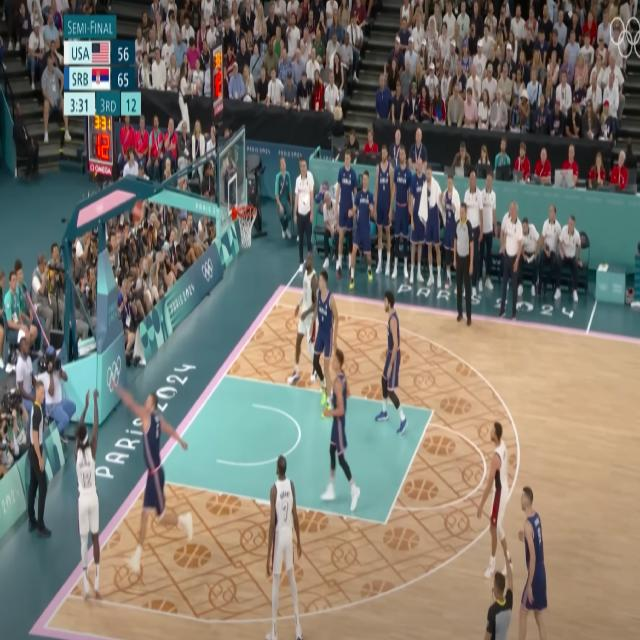hoop: (232, 207, 257, 249)
